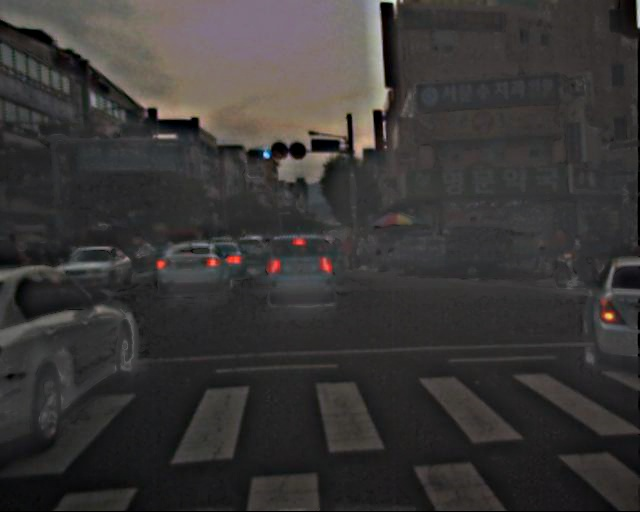person: (341, 228, 387, 271), (566, 234, 589, 289), (549, 225, 567, 270), (531, 234, 547, 274)
